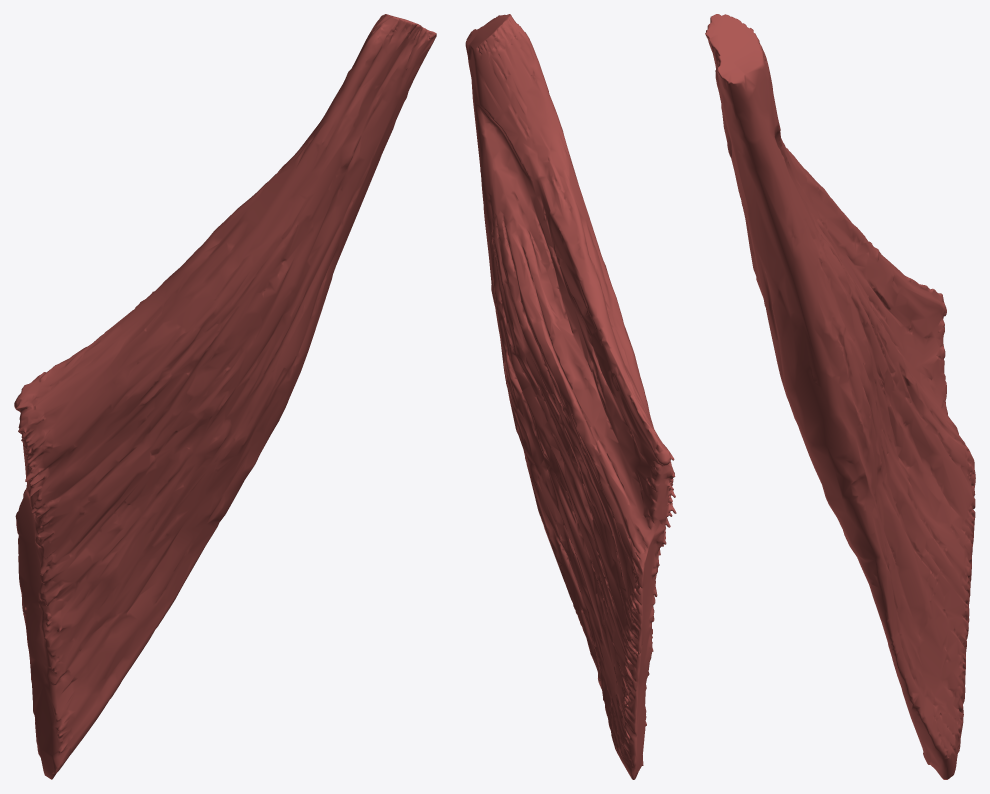
Rendered from FMA22452.glb.
3 renders of one model, left to right at view 1: azimuth 30°, elevation 25°; view 2: azimuth 150°, elevation 25°; view 3: azimuth 270°, elevation 25°, orthographic. The views are drawn at different scales.
Parts seen in each view (by area): view 1: FMA22452; view 2: FMA22452; view 3: FMA22452.
Part boxes in pixels (bbox=[...]): FMA22452: bbox=[14, 14, 436, 779]; FMA22452: bbox=[465, 14, 676, 779]; FMA22452: bbox=[705, 14, 975, 779].
Size of the model in its own units: 0.0767 by 0.1707 by 0.0463.
